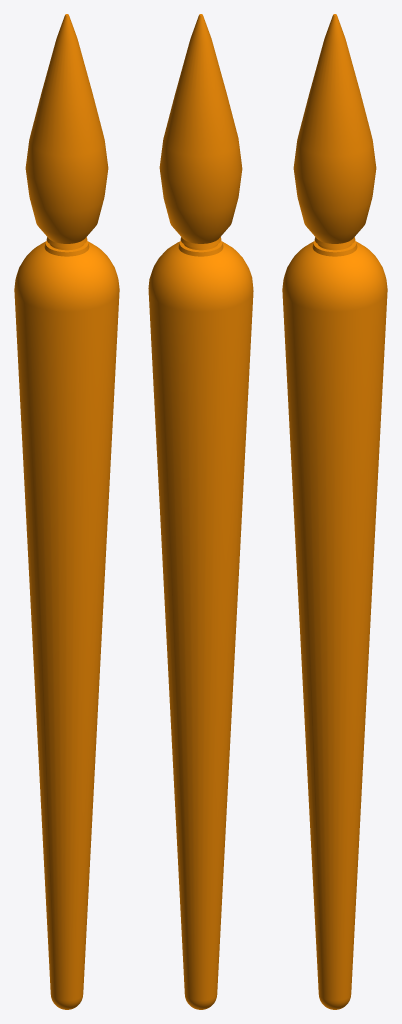
Rendered from Brush.fbx.
3 views of the same model, side by side, from view 1: azimuth 90°, elevation 25°; view 2: azimuth 210°, elevation 25°; view 3: azimuth 270°, elevation 25° (orthographic).
Visible parts, largest first — view 1: Brush; view 2: Brush; view 3: Brush.
Boxes of the visible parts, box(x1,y1,x2,y2) form: Brush: box(14, 14, 119, 1009); Brush: box(148, 14, 253, 1009); Brush: box(282, 14, 387, 1009).
Size of the model in its own units: 3.68 by 38.32 by 3.68.
